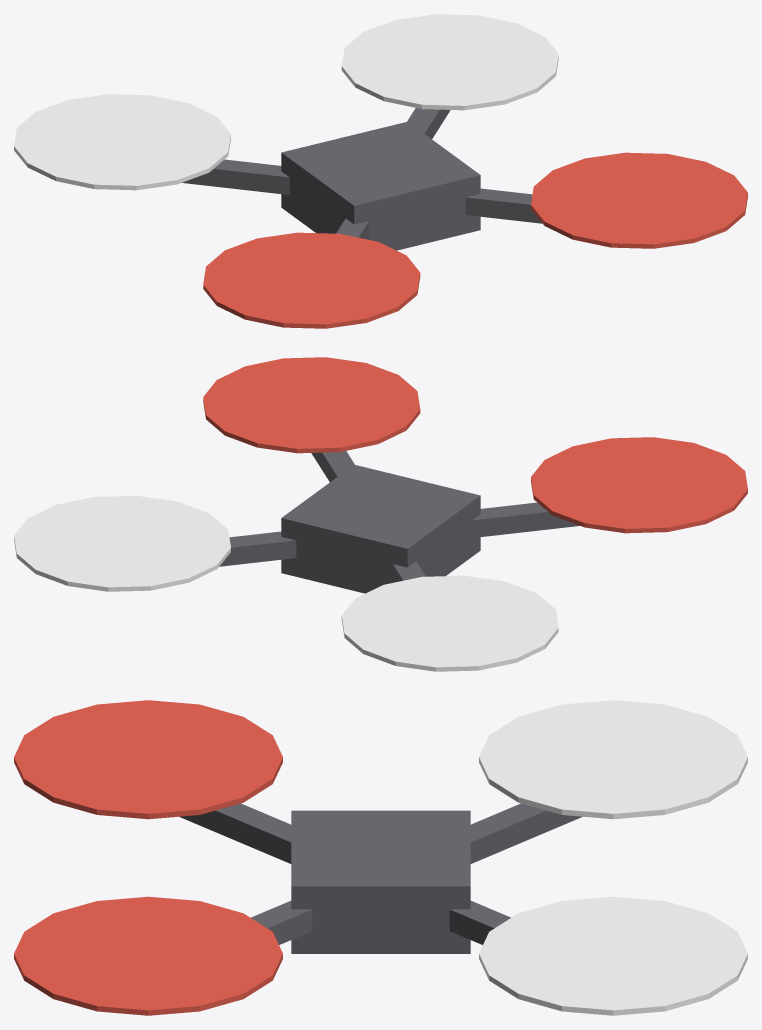
The model's file is quad.glb.
The picture shows the model from 3 angles, top to bottom: view 1: azimuth 30°, elevation 25°; view 2: azimuth 150°, elevation 25°; view 3: azimuth 270°, elevation 25°; orthographic projection. The views are drawn at different scales.
Bounding box in the file's own units: 2.46 × 0.25 × 2.46.
